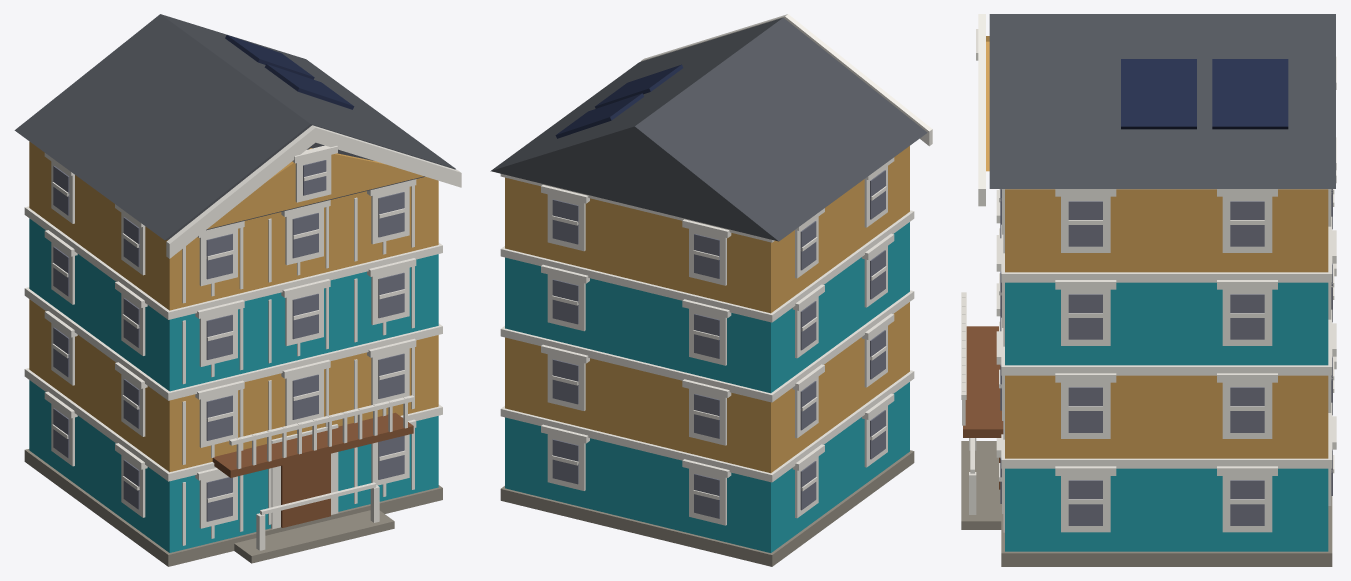
The model's file is house-1x1-4f-valparaiso-a-solar.glb.
The picture shows the model from 3 angles, left to right: view 1: azimuth 30°, elevation 25°; view 2: azimuth 150°, elevation 25°; view 3: azimuth 270°, elevation 25°; orthographic projection. The views are drawn at different scales.
Visible parts, largest first — view 1: house-1x1-4f-valparaiso-a-solar; view 2: house-1x1-4f-valparaiso-a-solar; view 3: house-1x1-4f-valparaiso-a-solar.
Part boxes in pixels (bbox=[...]): house-1x1-4f-valparaiso-a-solar: bbox=[14, 14, 461, 566]; house-1x1-4f-valparaiso-a-solar: bbox=[490, 14, 932, 566]; house-1x1-4f-valparaiso-a-solar: bbox=[961, 14, 1336, 566].
Bounding box in the file's own units: 1.02 × 1.38 × 0.987.
Materials: 1 (1 with a texture image).
